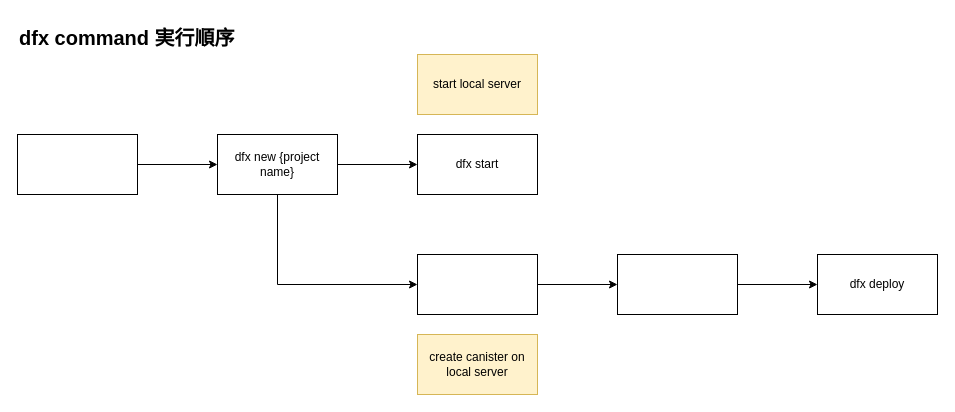
The diagram is 955 pixels wide and 412 high, and some of its shapes have lost their labels. Each missing label, with the centre of its shape:
dfx --version: (77,164)
dfx build: (677,284)
dfx canister create --all: (477,284)
